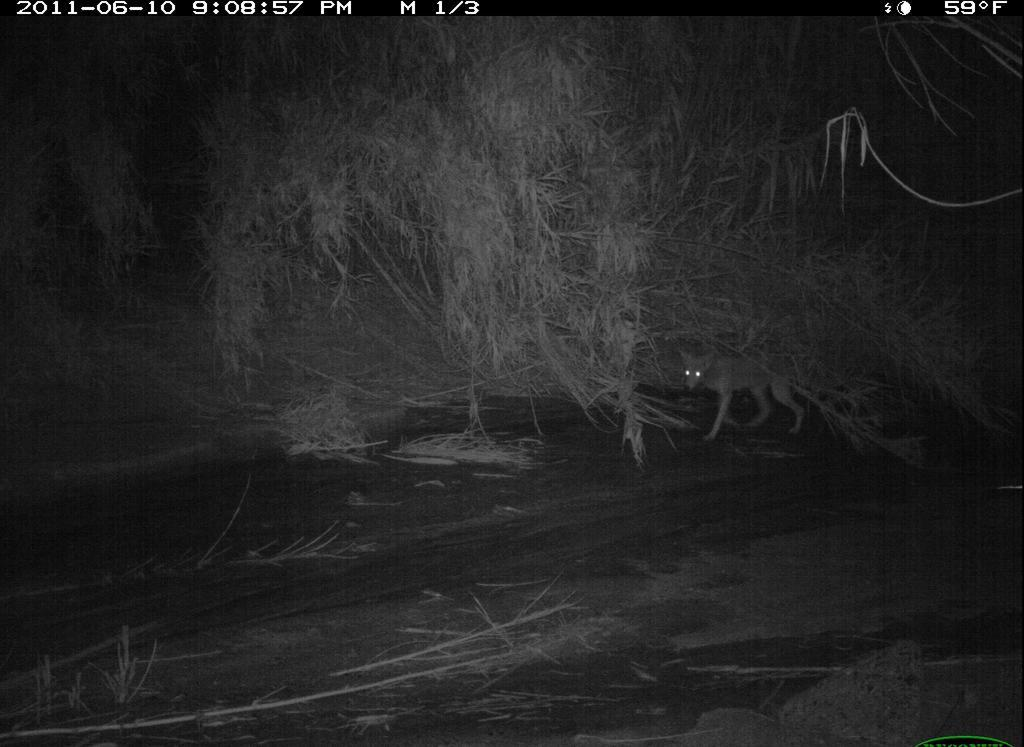coyote: (671, 341, 824, 448)
